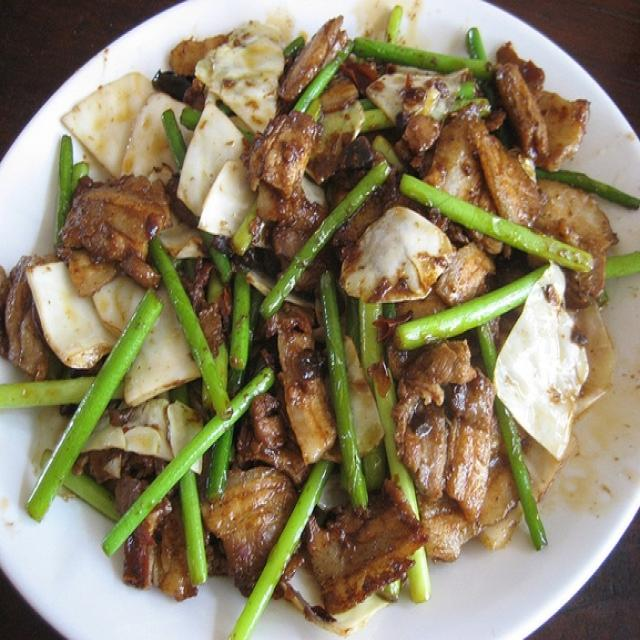猪肉菜式: (18, 15, 621, 607)
